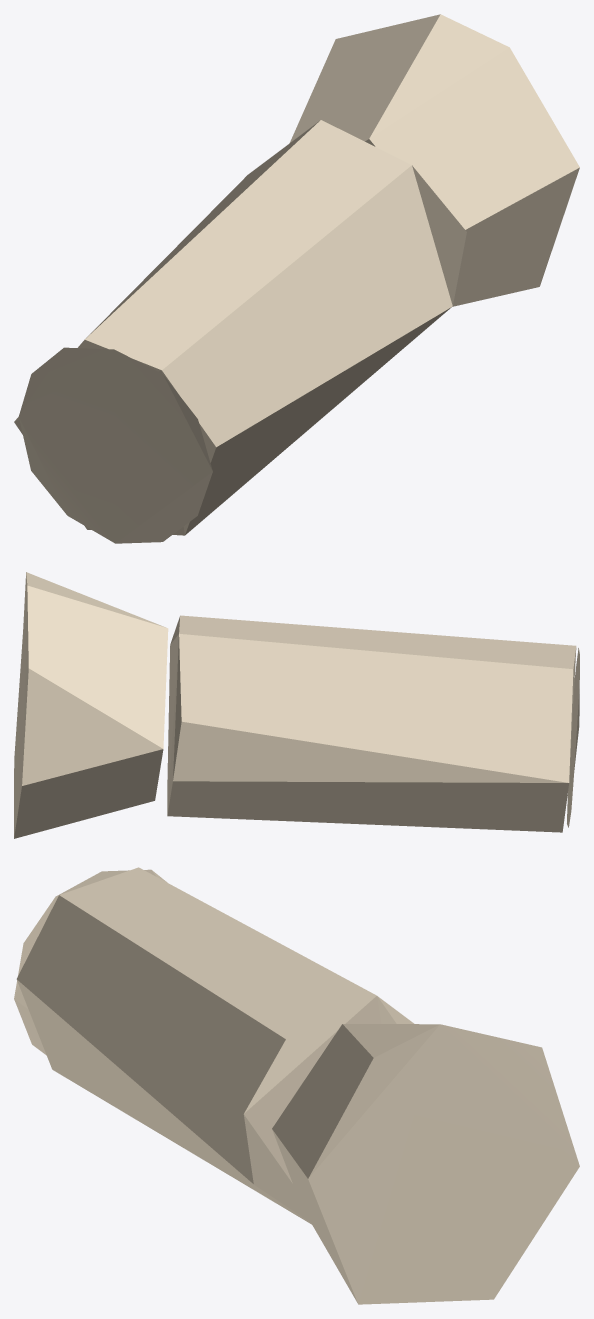
Rendered from ColumnDestroy_2.fbx.
3 renders of one model, top to bottom at view 1: azimuth 30°, elevation 25°; view 2: azimuth 150°, elevation 25°; view 3: azimuth 270°, elevation 25°, orthographic. The views are drawn at different scales.
Visible parts, largest first — view 1: ColumnDestroy.003; view 2: ColumnDestroy.003; view 3: ColumnDestroy.003.
Part boxes in pixels (left/top/right/bottom): ColumnDestroy.003: left=14, top=14, right=579, bottom=543; ColumnDestroy.003: left=14, top=572, right=579, bottom=838; ColumnDestroy.003: left=14, top=867, right=579, bottom=1304.
Bounding box in the file's own units: 101 × 45.56 × 81.8.
